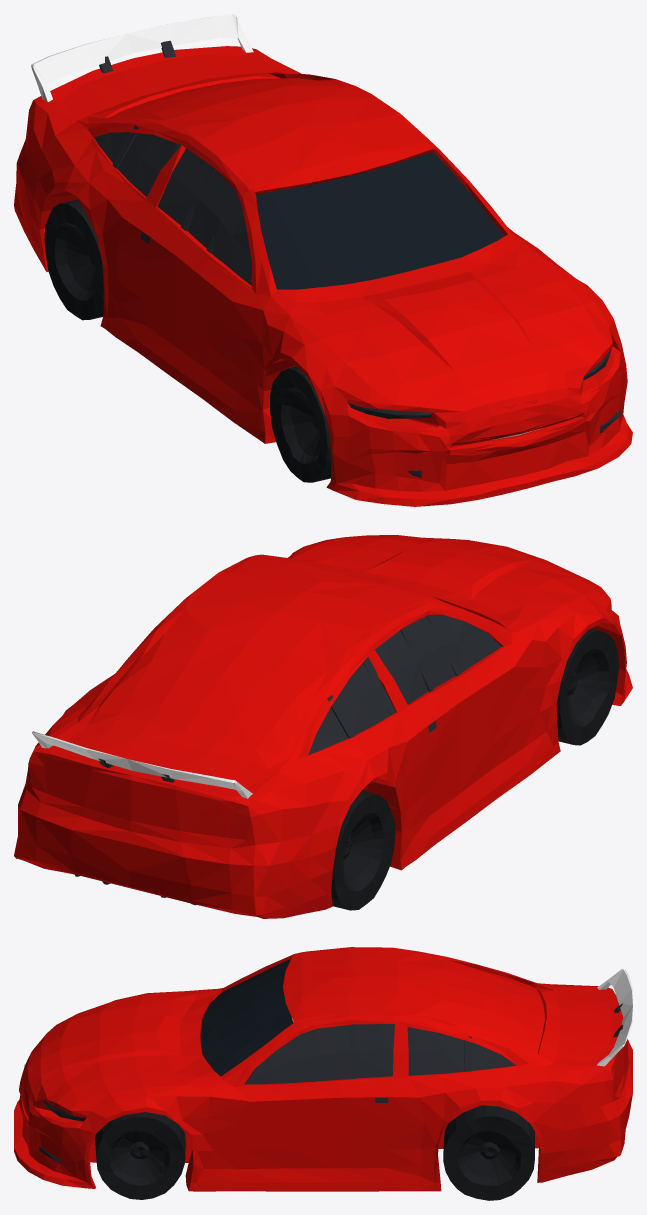
Rendered from stock.glb.
3 views of the same model, one above another, from view 1: azimuth 30°, elevation 25°; view 2: azimuth 150°, elevation 25°; view 3: azimuth 270°, elevation 25° (orthographic). The views are drawn at different scales.
Parts seen in each view (by area): view 1: primary, glass, dark, wheel_1, secondary, wheel_3; view 2: primary, dark, wheel_1, wheel_3, secondary; view 3: primary, dark, wheel_0, wheel_2, glass, secondary.
Boxes of the visible parts, x1,y1,x2,y2 form: primary: (14,46,632,506); glass: (256,152,504,289); dark: (94,40,620,477); wheel_1: (44,199,104,320); secondary: (31,14,540,440); wheel_3: (270,366,330,482); primary: (14,535,632,918); dark: (74,614,502,905); wheel_1: (331,791,395,910); wheel_3: (556,628,619,745); secondary: (32,731,252,798); primary: (14,947,632,1191); dark: (39,1003,623,1163); wheel_0: (443,1105,534,1200); wheel_2: (95,1112,185,1199); glass: (200,958,293,1076); secondary: (597,969,632,1066).
Bounding box in the file's own units: 2.27 × 1.57 × 5.2.
